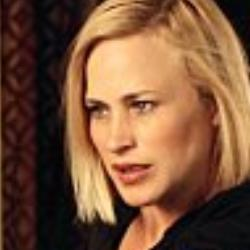face: (43, 2, 250, 213)
